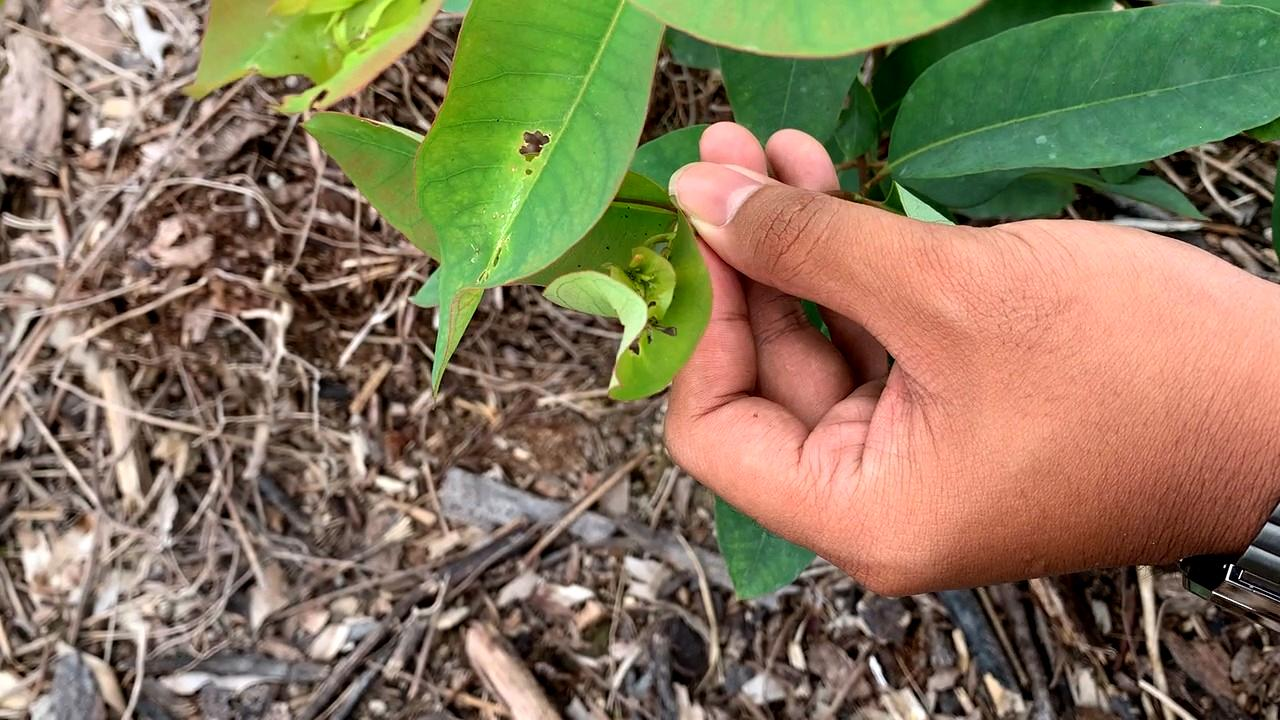Leaf Roller - Leaf: (558, 230, 703, 421)
